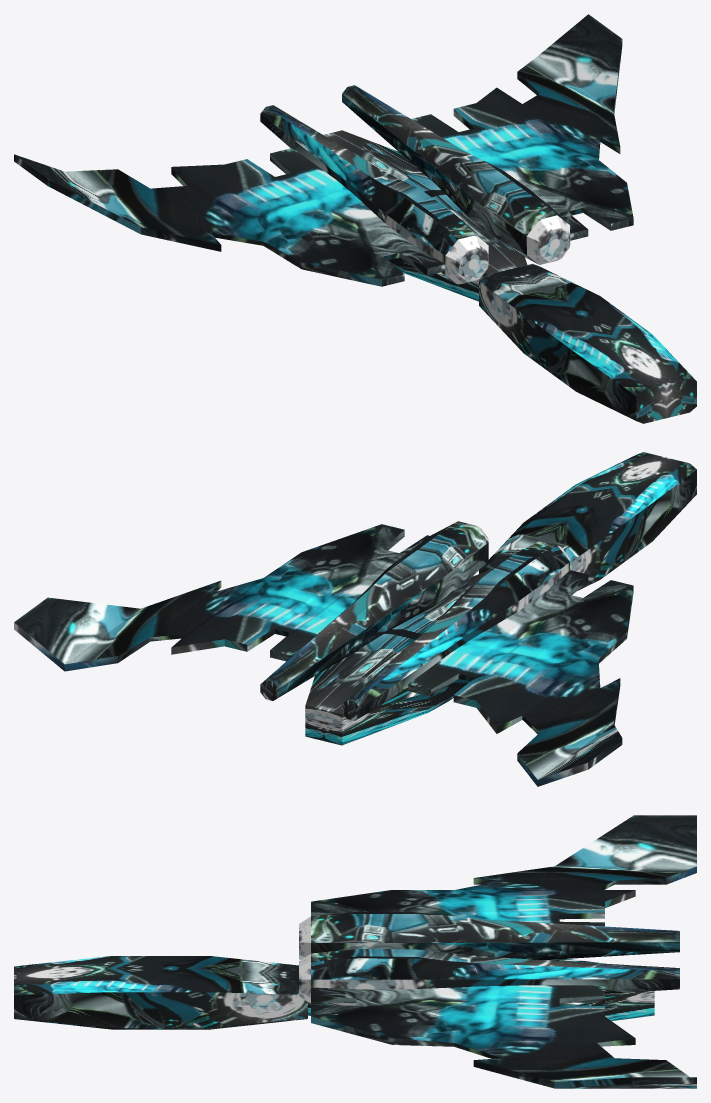
Rendered from LowPolySpaceship.fbx.
The picture shows the model from 3 angles, top to bottom: view 1: azimuth 30°, elevation 25°; view 2: azimuth 150°, elevation 25°; view 3: azimuth 270°, elevation 25°; orthographic projection. The views are drawn at different scales.
Parts seen in each view (by area): view 1: Wings, Engines, Cockpit, Body; view 2: Wings, Engines, Cockpit, Body; view 3: Wings, Engines, Cockpit, Body.
Part boxes in pixels (x1,y1,x2,y2): Wings: [14, 14, 633, 286]; Engines: [260, 85, 570, 284]; Cockpit: [479, 263, 696, 423]; Body: [323, 130, 527, 301]; Wings: [14, 524, 633, 786]; Engines: [260, 521, 570, 720]; Cockpit: [479, 452, 696, 590]; Body: [305, 569, 491, 745]; Wings: [311, 815, 696, 1088]; Engines: [299, 911, 679, 1005]; Cockpit: [14, 956, 307, 1029]; Body: [308, 959, 654, 1020].
Bounding box in the file's own units: 8.44 × 1.23 × 9.3.
